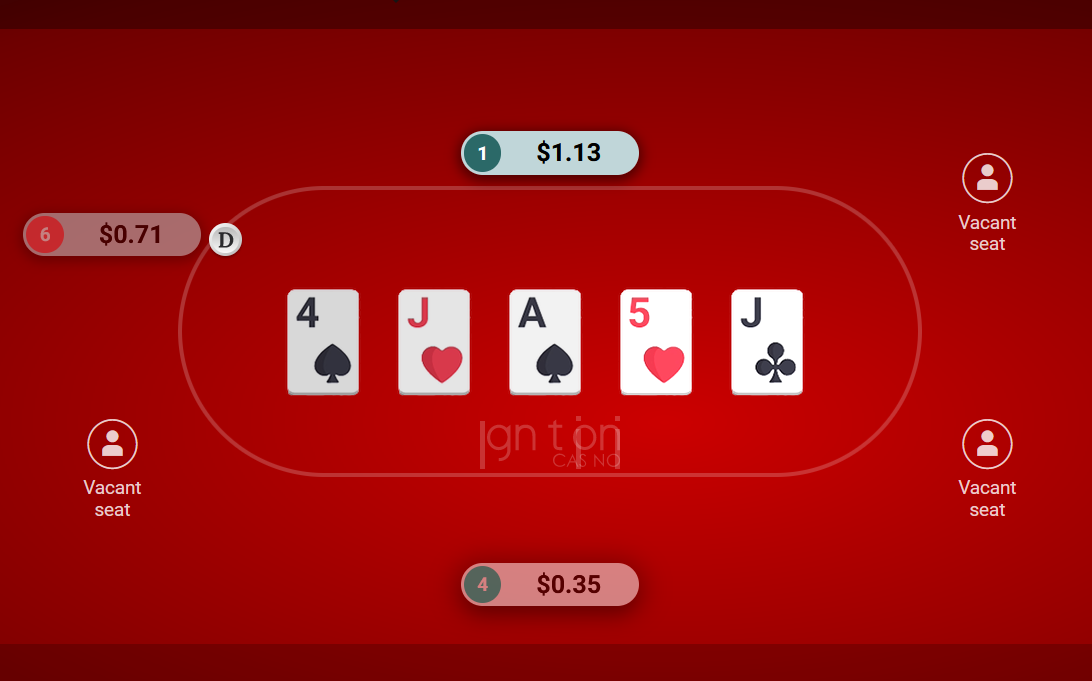4S: (283, 285, 364, 396)
5H: (616, 285, 697, 396)
AS: (505, 285, 586, 396)
JC: (727, 285, 808, 396)
JH: (394, 285, 475, 396)
